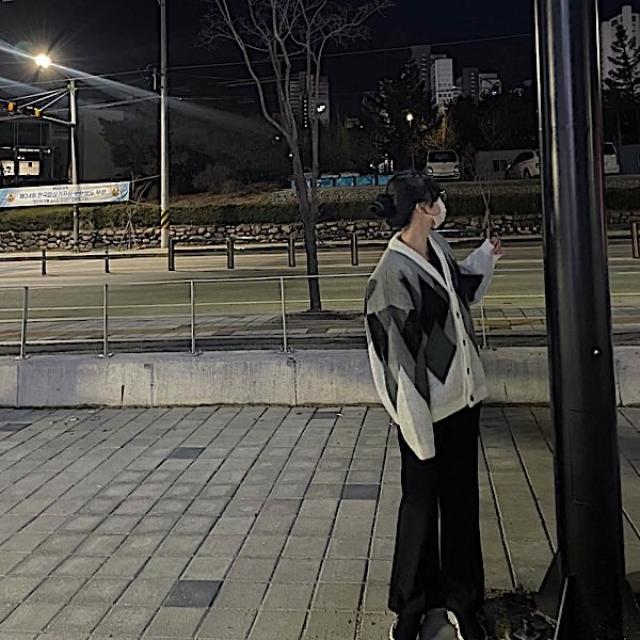cardigan: (363, 220, 504, 460)
slacks: (390, 388, 484, 622)
